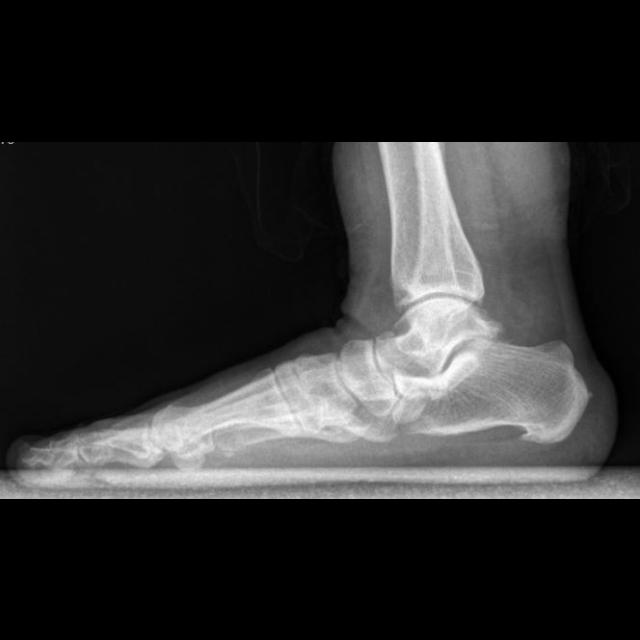a: (393, 338, 589, 443)
b: (336, 339, 399, 415)
c: (152, 368, 302, 467)
